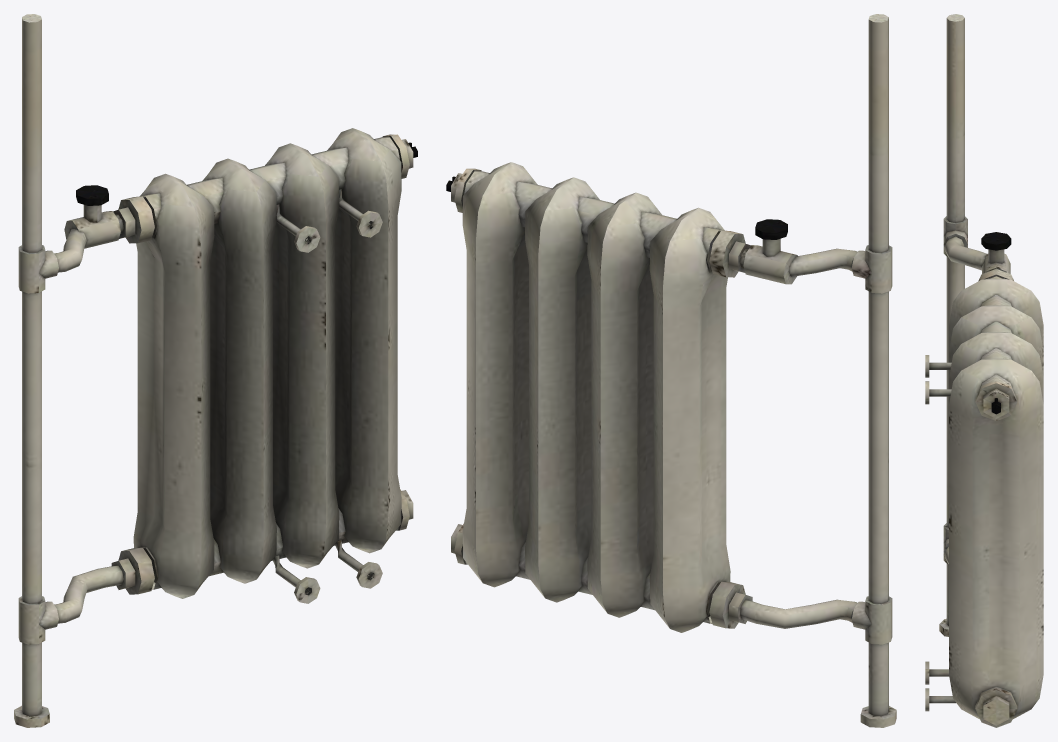
Rendered from rad_4_short_lod1_web.glb.
3 renders of one model, left to right at view 1: azimuth 30°, elevation 25°; view 2: azimuth 150°, elevation 25°; view 3: azimuth 270°, elevation 25°, orthographic. The views are drawn at different scales.
Parts seen in each view (by area): view 1: Rad4Short_Body; view 2: Rad4Short_Body; view 3: Rad4Short_Body.
Boxes of the visible parts, box(x1,y1,x2,y2) form: Rad4Short_Body: box(14, 14, 417, 727); Rad4Short_Body: box(446, 14, 896, 727); Rad4Short_Body: box(925, 14, 1043, 727).
Size of the model in its own units: 0.63 by 1 by 0.175.
Materials: 1 (1 with a texture image).
